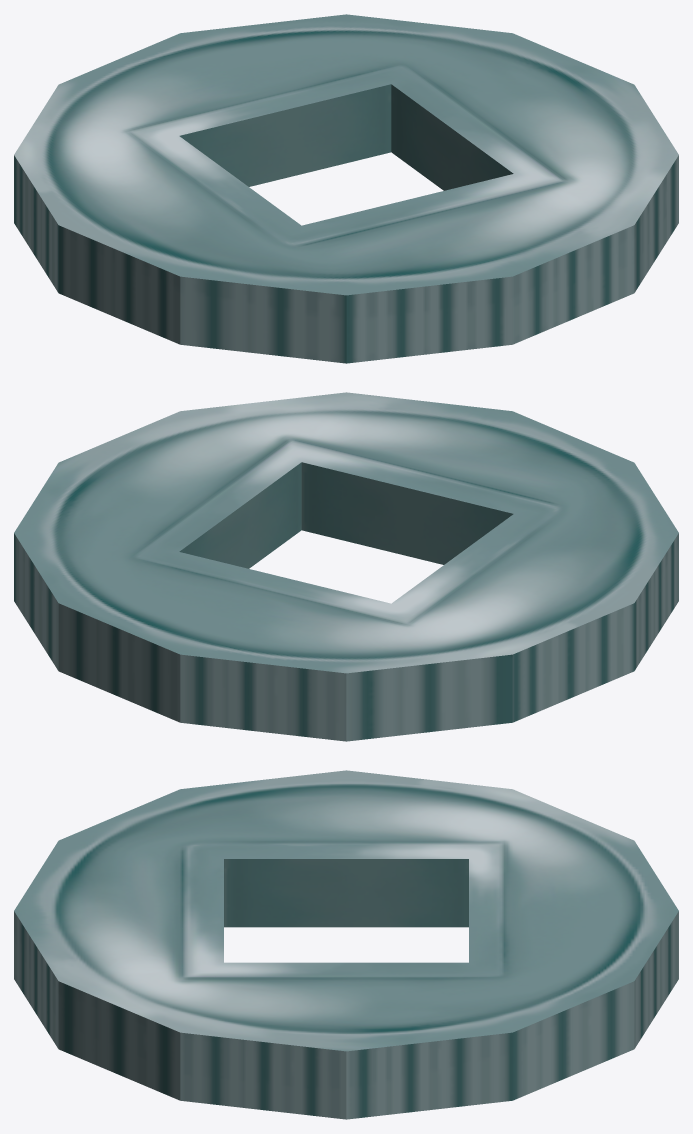
File: coin_hole_02.fbx
The picture shows the model from 3 angles, top to bottom: view 1: azimuth 30°, elevation 25°; view 2: azimuth 150°, elevation 25°; view 3: azimuth 270°, elevation 25°; orthographic projection.
Parts seen in each view (by area): view 1: coin_hole_02; view 2: coin_hole_02; view 3: coin_hole_02.
Boxes of the visible parts, box(x1,y1,x2,y2) form: coin_hole_02: box(14, 14, 678, 363); coin_hole_02: box(14, 392, 678, 741); coin_hole_02: box(14, 770, 678, 1119).
Bounding box in the file's own units: 2.63 × 0.2972 × 2.63.
